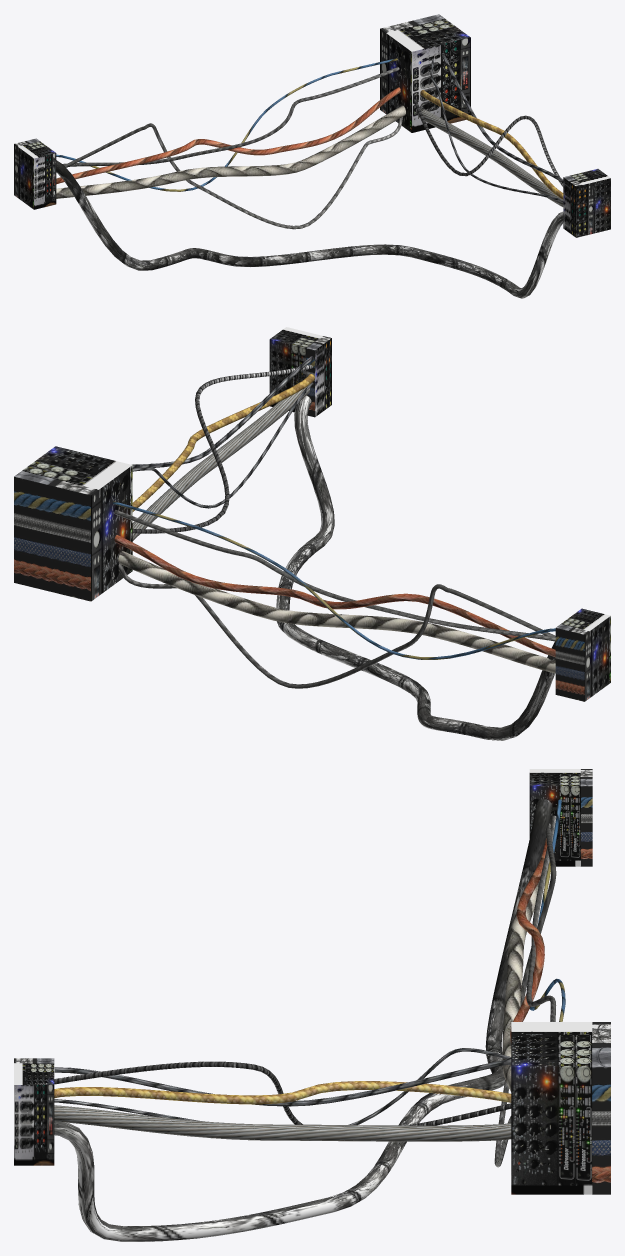
Rendered from kable_corner.fbx.
3 renders of one model, top to bottom at view 1: azimuth 30°, elevation 25°; view 2: azimuth 150°, elevation 25°; view 3: azimuth 270°, elevation 25°, orthographic. The views are drawn at different scales.
Visible parts, largest first — view 1: Cube.009; view 2: Cube.009; view 3: Cube.009.
Part boxes in pixels (bbox=[...]): Cube.009: bbox=[14, 14, 610, 298]; Cube.009: bbox=[14, 327, 610, 740]; Cube.009: bbox=[14, 769, 610, 1241].
Size of the model in its own units: 867 by 287 by 663.
1 material, 1 textured.
